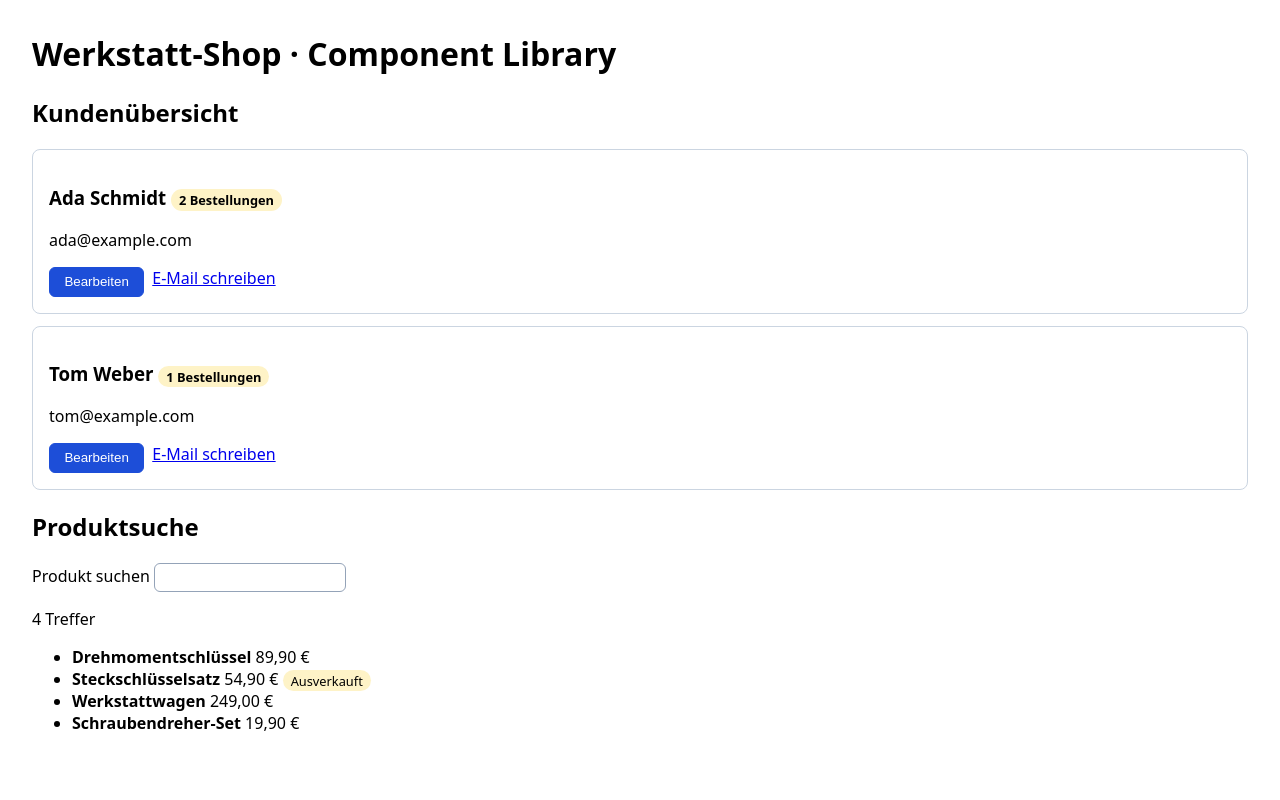
zeigt im Template der Produktsuche die Anzahl der Treffer
The width and height of the screenshot is (1280, 800).
Type "schlüssel" into the search field labelled "Produkt suchen" at (250, 578), box [154,563,346,592]
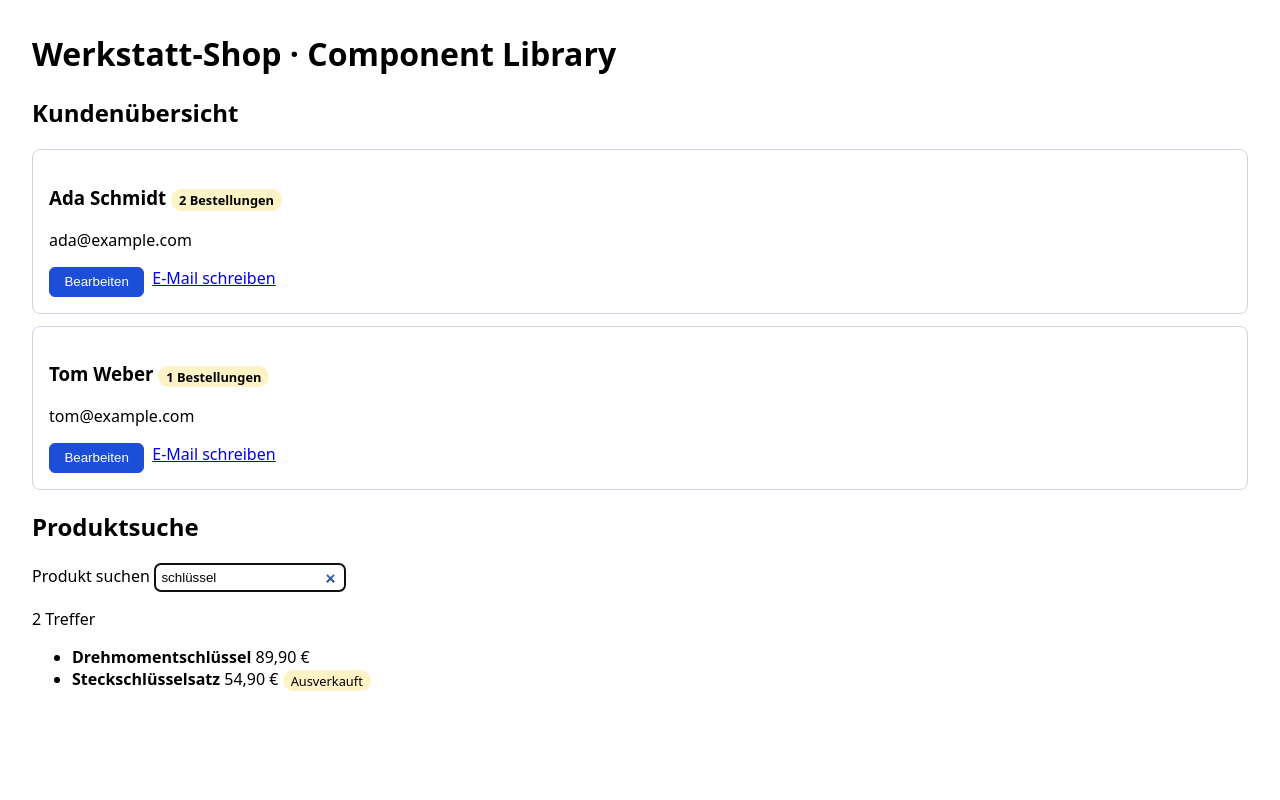
Check: the text "2 Treffer" is shown, box [32,608,95,630]
